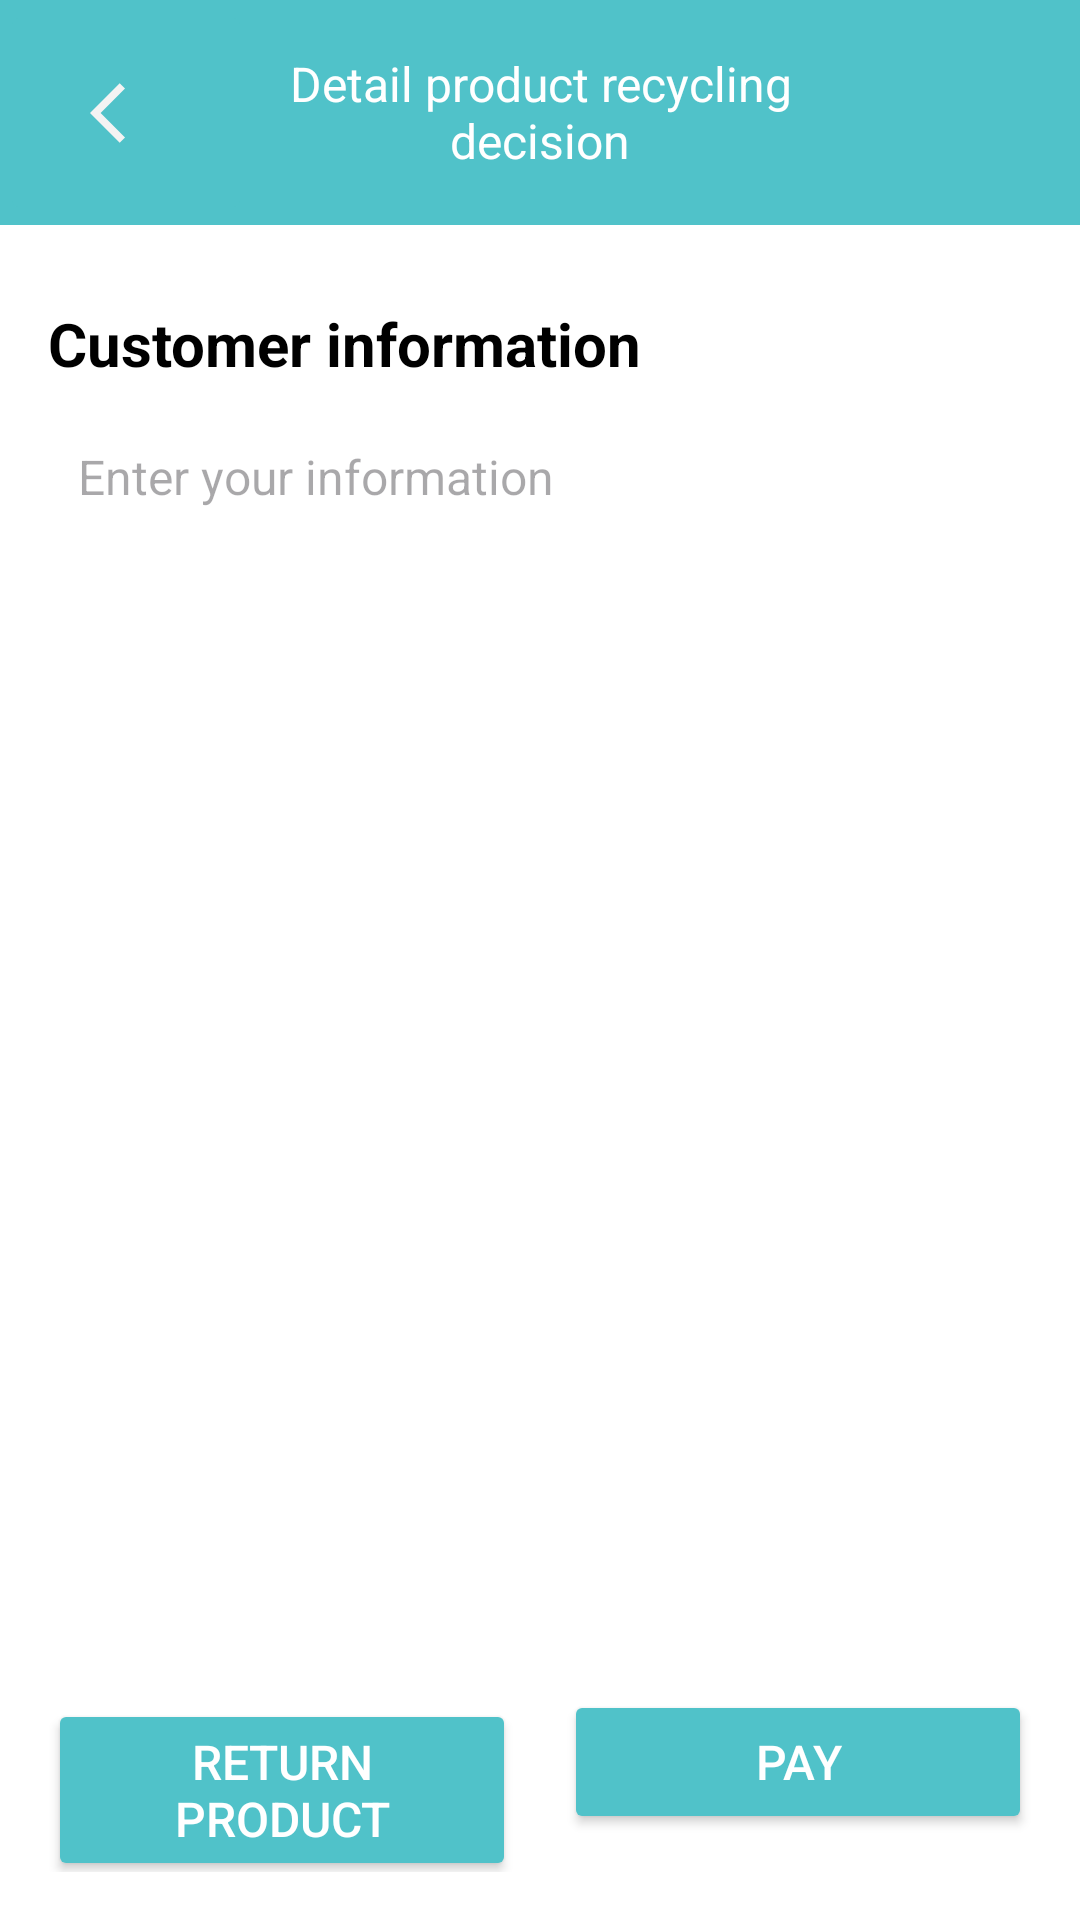

Point at icon controls on the screen. Image size 1080*1920, points as (x=x, y=y).
arrow left: (x=107, y=113)
